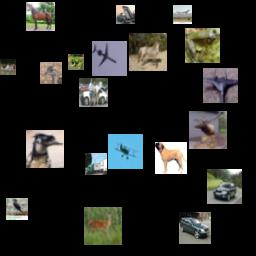airplane: (92, 41, 127, 76), (108, 134, 143, 169), (203, 68, 238, 103), (173, 5, 192, 24)
automobile: (207, 169, 242, 204), (179, 212, 211, 244), (79, 78, 108, 107)
bird: (26, 130, 64, 168), (6, 198, 28, 220), (40, 62, 62, 84)
deer: (189, 111, 227, 149), (84, 207, 122, 245)
dog: (155, 142, 187, 174)
frog: (185, 28, 220, 63), (68, 54, 84, 70)
ship: (0, 59, 16, 75)
truck: (85, 153, 107, 175), (116, 5, 135, 24)
